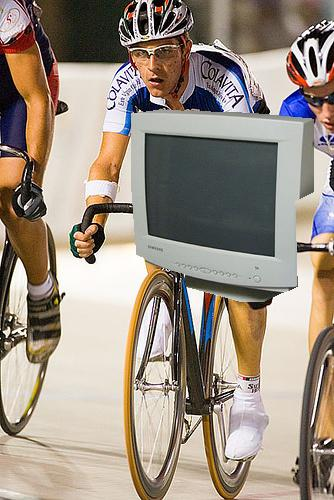tampered: (132, 111, 314, 302)
